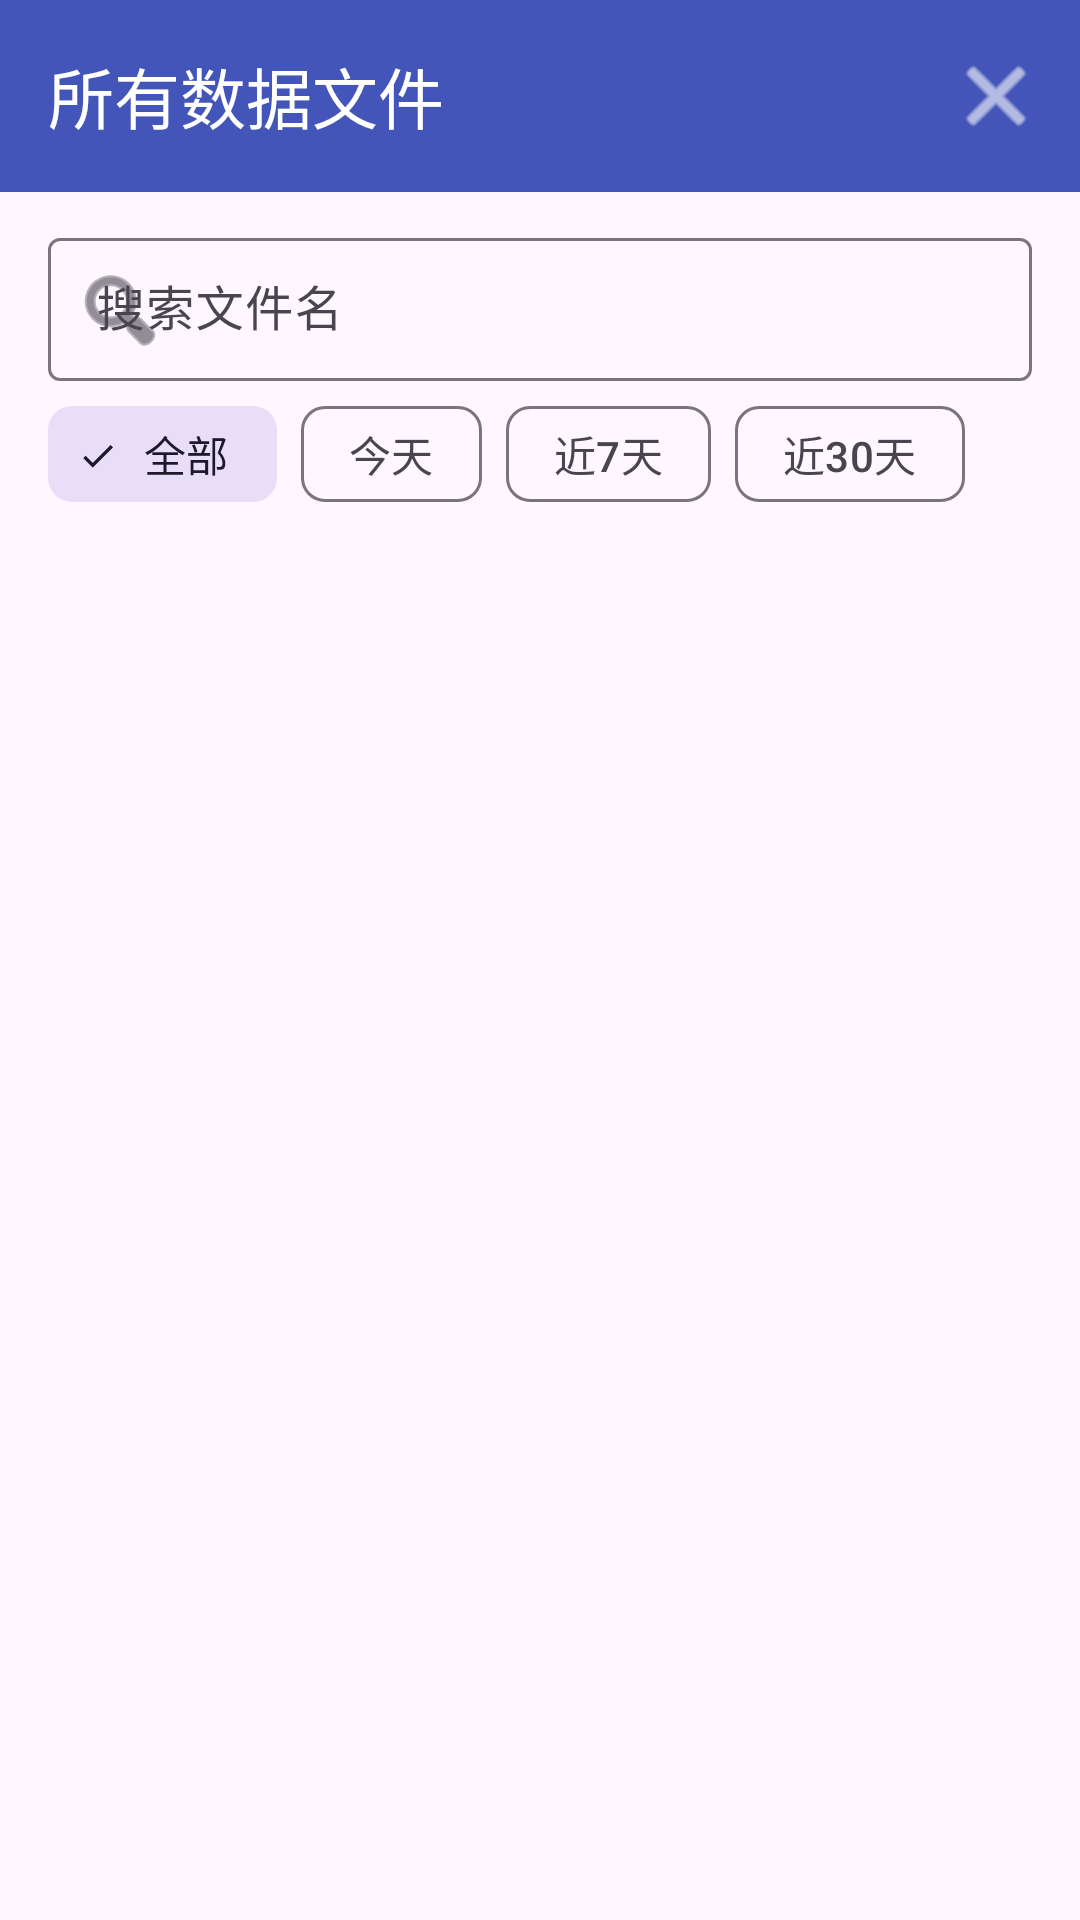

Locate icon controls on the screen. Image size 1080×1920, boxes as [x1,y1,x2,y2].
取消: [966,66,1026,126]
